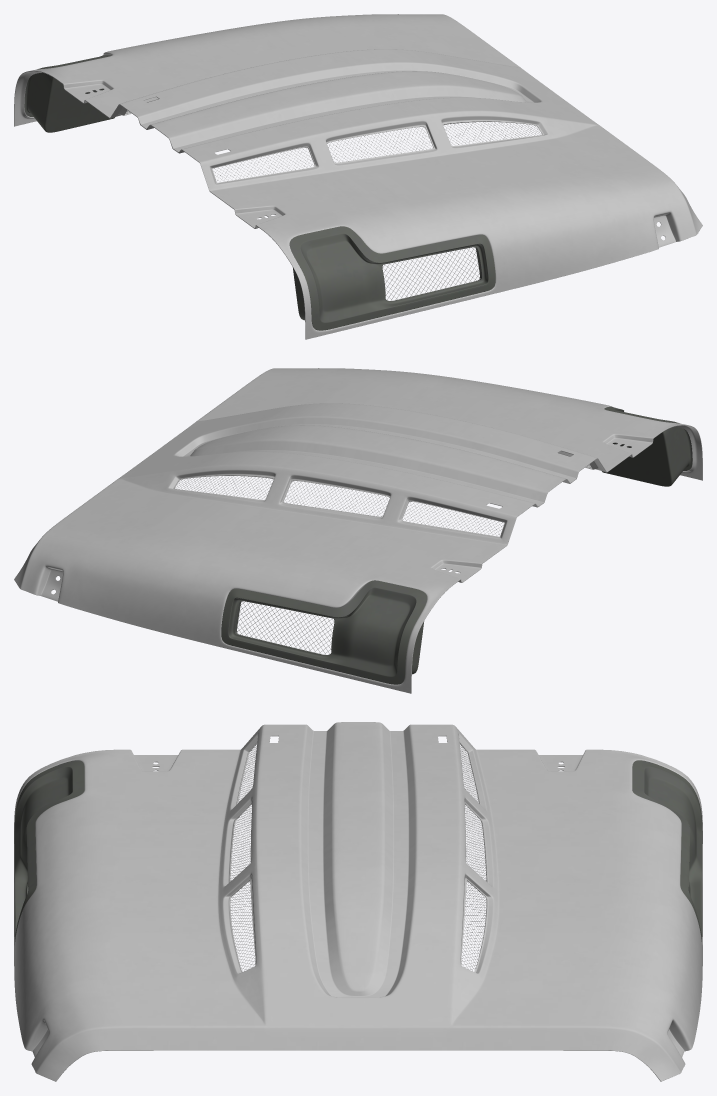
Rendered from bodyPart_hood_c01.glb.
3 renders of one model, top to bottom at view 1: azimuth 30°, elevation 25°; view 2: azimuth 150°, elevation 25°; view 3: azimuth 270°, elevation 25°, orthographic. The views are drawn at different scales.
Parts seen in each view (by area): view 1: hood_01_mesh_00; view 2: hood_01_mesh_00; view 3: hood_01_mesh_00.
Boxes of the visible parts, left/top/right/bottom form: hood_01_mesh_00: left=14, top=14, right=702, bottom=339; hood_01_mesh_00: left=14, top=368, right=702, bottom=693; hood_01_mesh_00: left=14, top=722, right=702, bottom=1081.
Bounding box in the file's own units: 1.28 × 0.3138 × 1.55.
2 materials, 2 textured.
